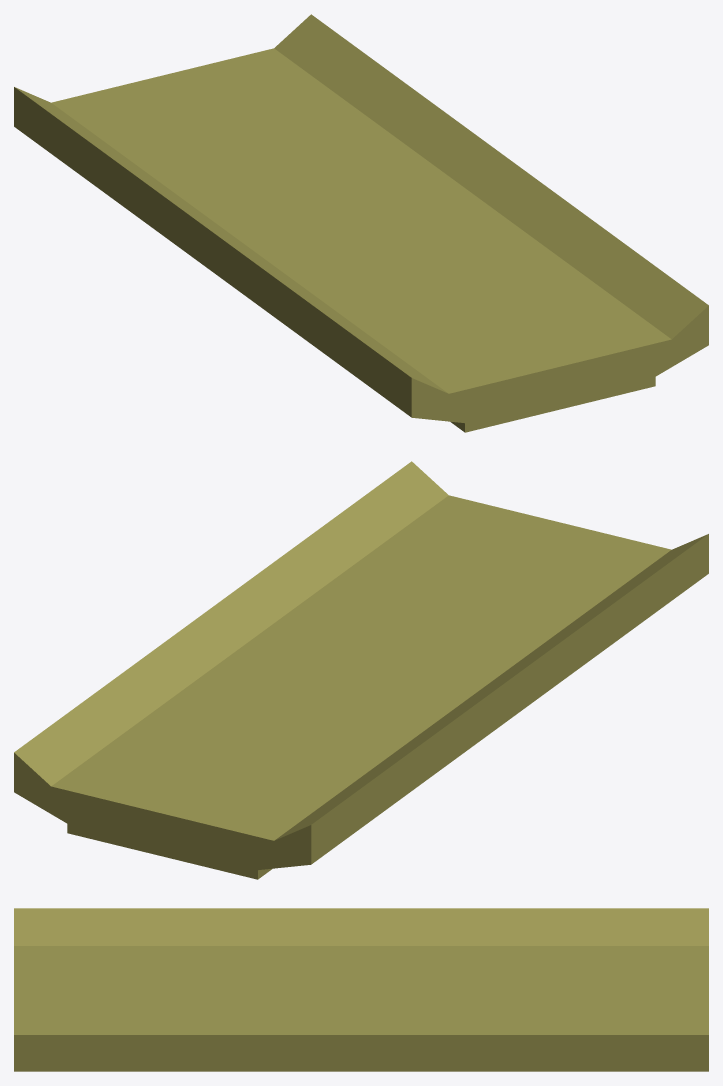
Rendered from Connector.fbx.
3 renders of one model, top to bottom at view 1: azimuth 30°, elevation 25°; view 2: azimuth 150°, elevation 25°; view 3: azimuth 270°, elevation 25°, orthographic. The views are drawn at different scales.
Parts seen in each view (by area): view 1: Cube.001; view 2: Cube.001; view 3: Cube.001.
Boxes of the visible parts, x1,y1,x2,y2 form: Cube.001: (14, 14, 708, 432); Cube.001: (14, 461, 708, 879); Cube.001: (14, 908, 708, 1071).
Bounding box in the file's own units: 459 × 1064 × 100.
